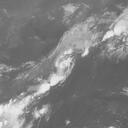cyclone: (52, 49, 75, 82)
